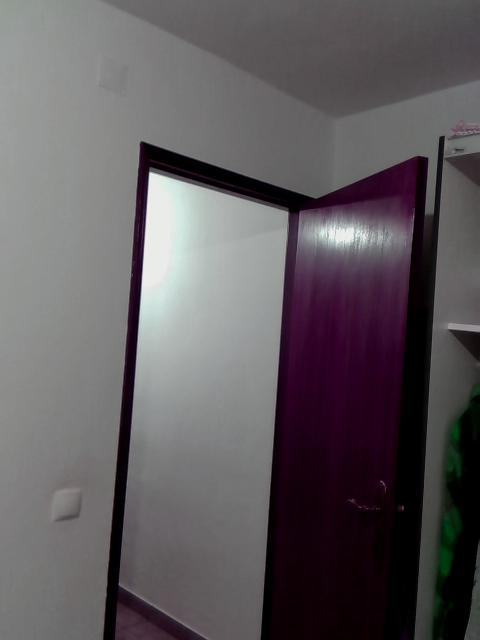open_door: (100, 138, 334, 639)
